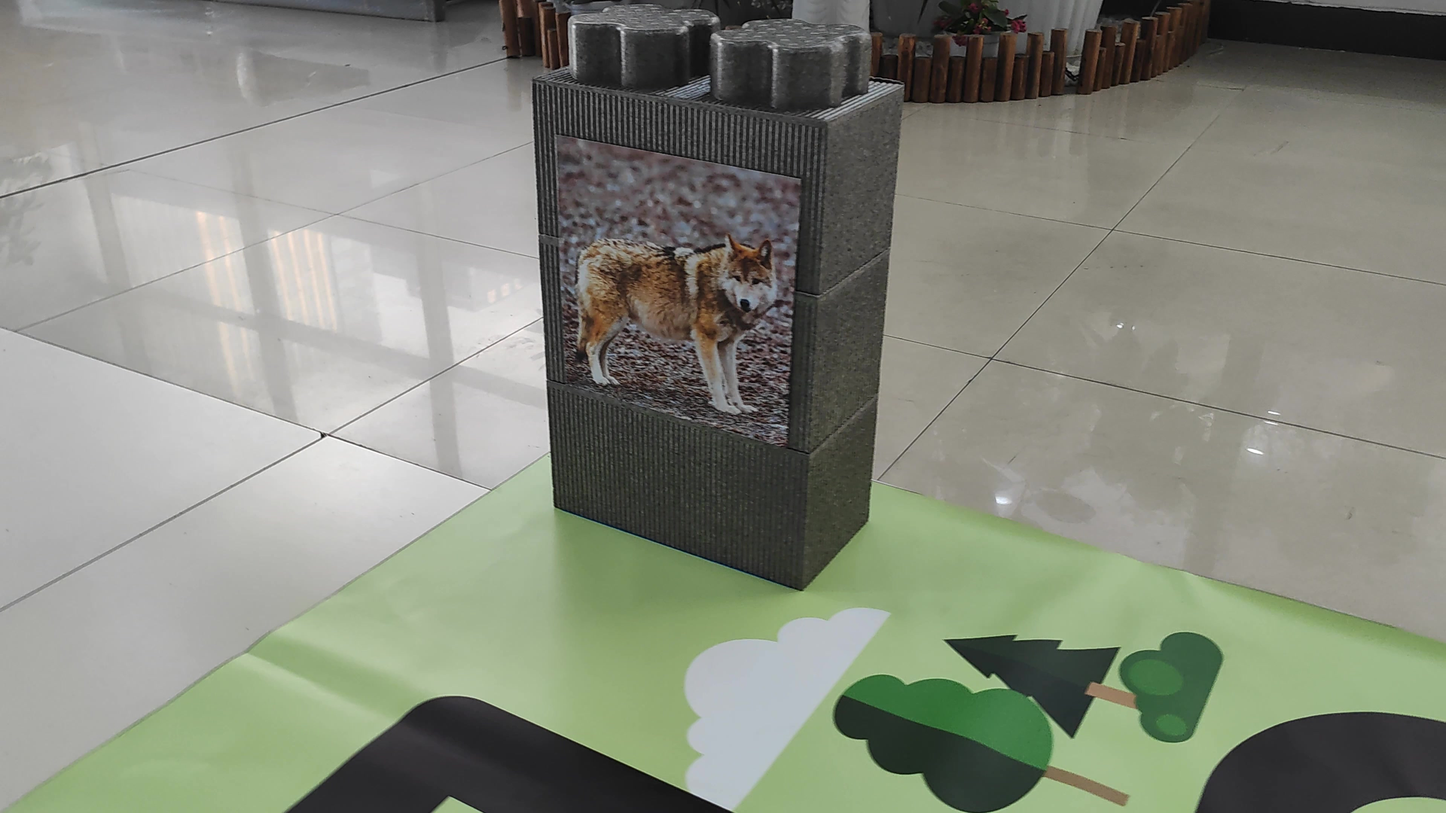wolf: (567, 218, 790, 432)
